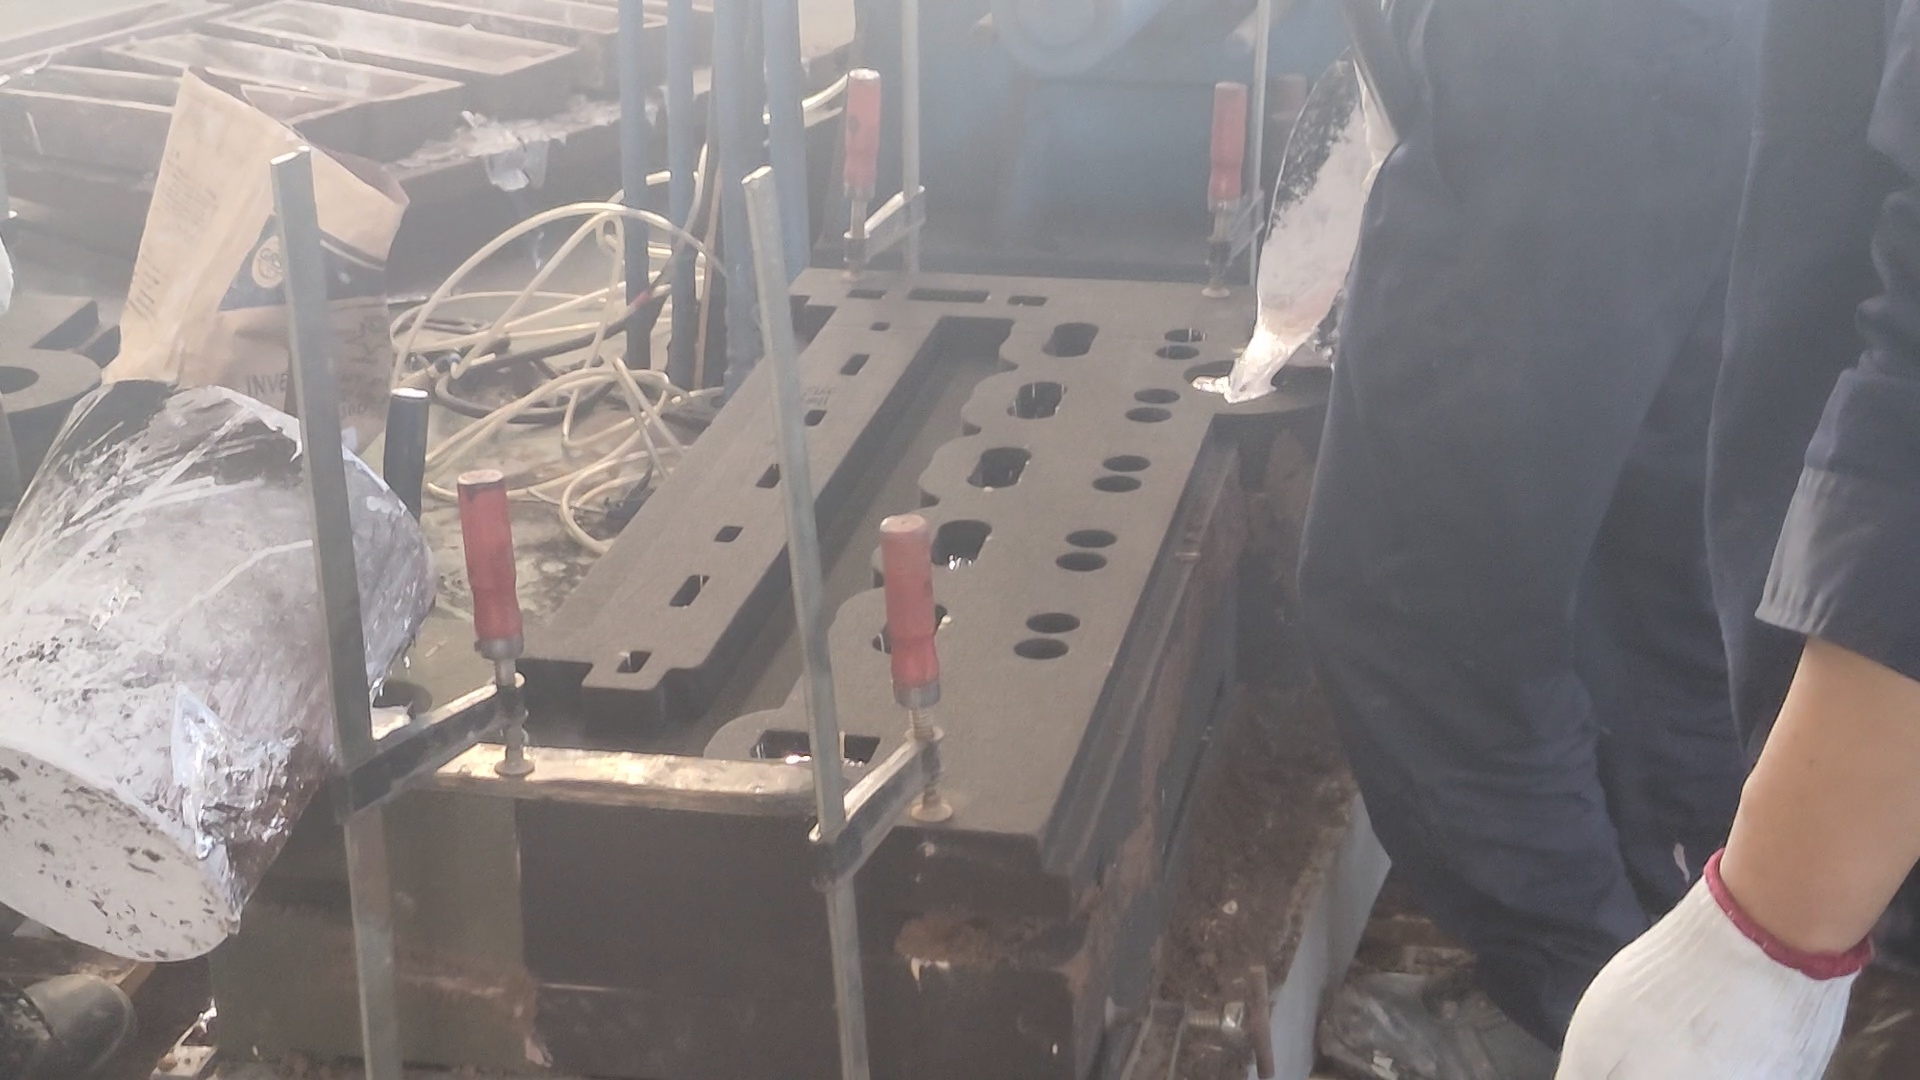pouring hole: (320, 673, 433, 738), (1180, 356, 1298, 400), (1, 363, 41, 396)
